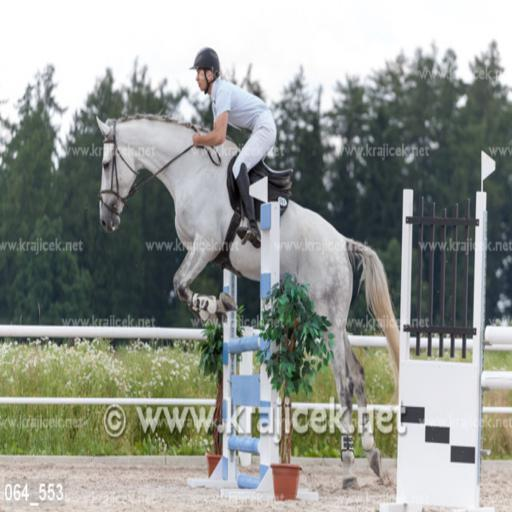horse: (97, 116, 401, 493)
